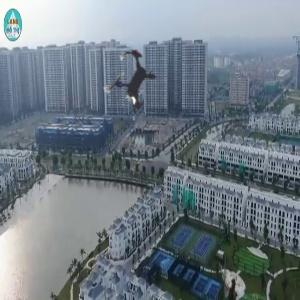drone: (80, 30, 185, 135)
